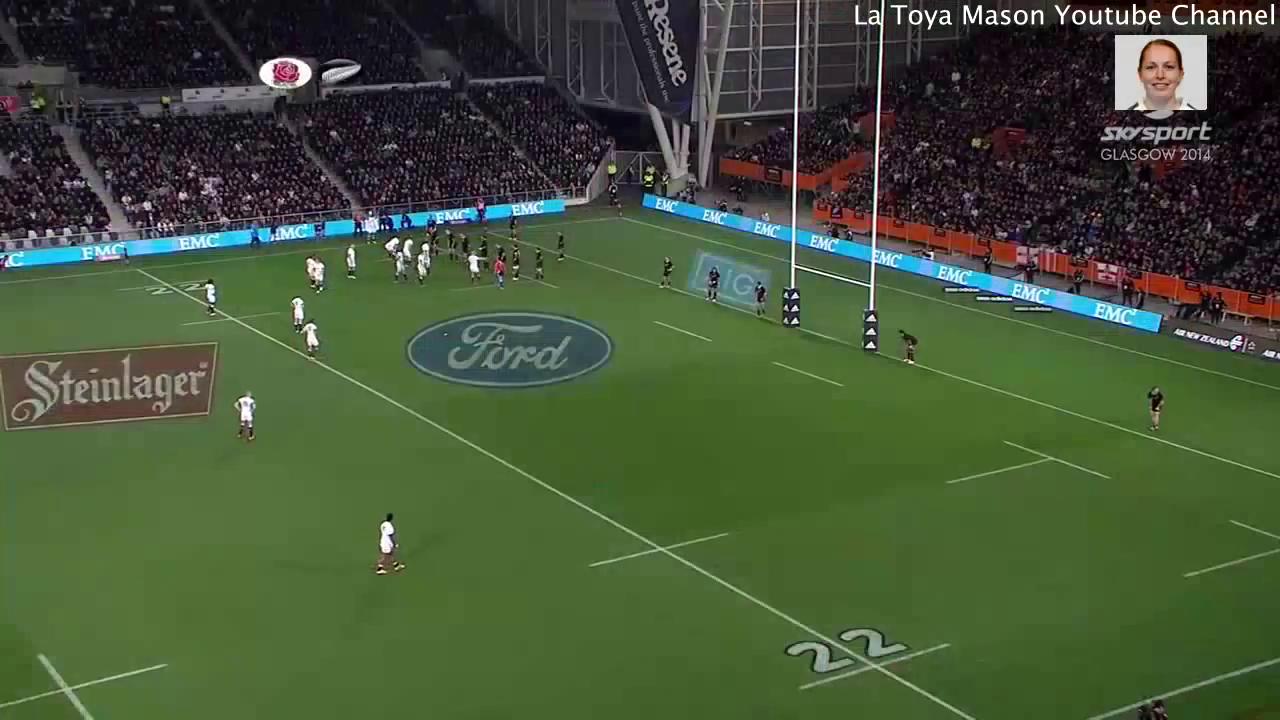10_metre: (1, 645, 174, 720)
player: (369, 504, 414, 582), (231, 389, 259, 447), (1142, 379, 1168, 438), (895, 325, 920, 370), (300, 315, 322, 364), (464, 247, 492, 283), (199, 276, 221, 321), (653, 252, 678, 290), (702, 264, 724, 307), (750, 279, 770, 322), (286, 293, 306, 336), (342, 240, 360, 284), (390, 249, 409, 286), (491, 255, 508, 294), (425, 224, 445, 255), (509, 240, 524, 281), (552, 230, 570, 263), (531, 243, 547, 280), (444, 226, 460, 262), (414, 250, 430, 286), (418, 239, 436, 269), (314, 256, 328, 293), (304, 254, 319, 287), (457, 231, 473, 261), (402, 234, 417, 266), (505, 212, 520, 241), (478, 235, 490, 271), (382, 234, 400, 257), (491, 242, 509, 262)
post: (777, 1, 889, 365)
